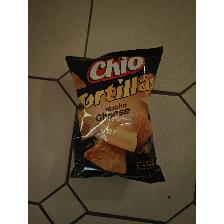Chips: (66, 45, 168, 187)
